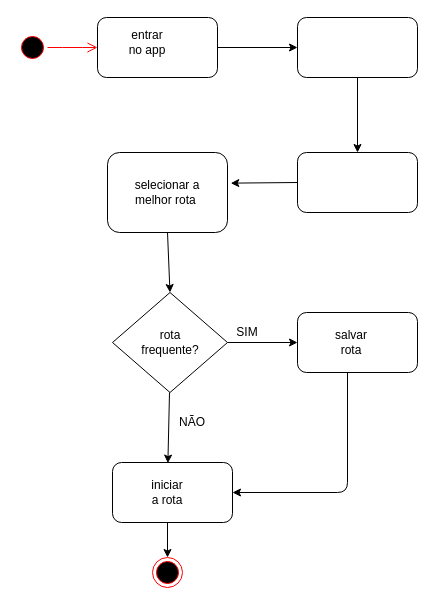
Image size: 435x605. Some labels were removed from this diagram. The box of each missing label's shape, as (x1, y1, x2, y2) in pixels:
digitar o endereço desejado: (296, 152, 418, 212)
selecionar aba de digitar endereço: (296, 16, 418, 78)
